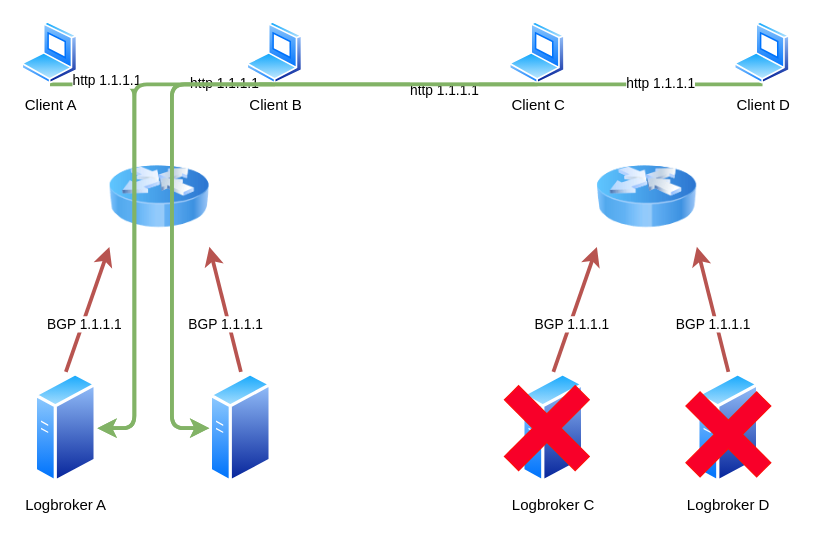
Some shapes in this 821 by 535 pixel diagram are drawn without their labels. The shapes that lost their labels are listed below. From the top down, each one's centre as x and y in pixels, then its label:
At point 159,196: "Router Bern".
At point 646,196: "Router Wettingen".
At point 240,427: "Logbroker B".
